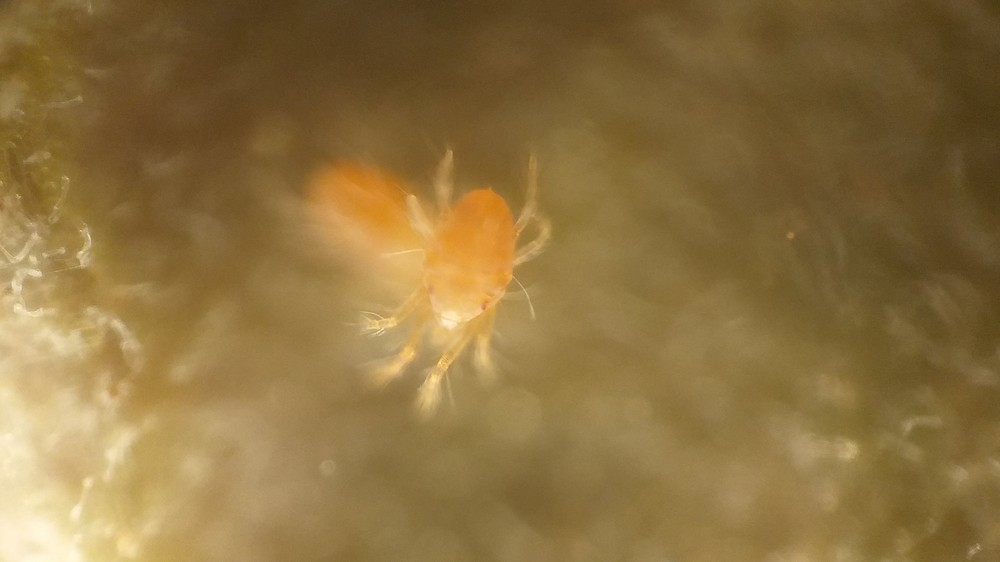Aracnido Rojo: (353, 139, 568, 424)
